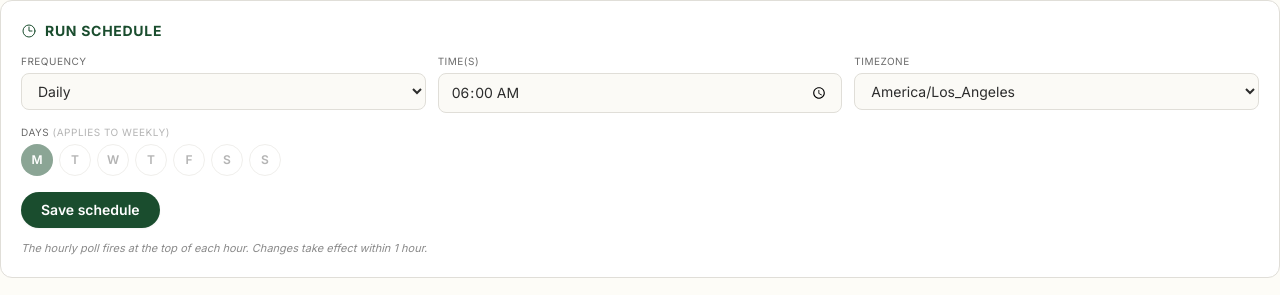
Test: ScheduleEditor › renders an error if save fails
The width and height of the screenshot is (1280, 295).
Expected: the time field showing "06:00" is shown, [438,73,842,113]
Click the button "Save schedule": (90, 210) [21,192,160,228]
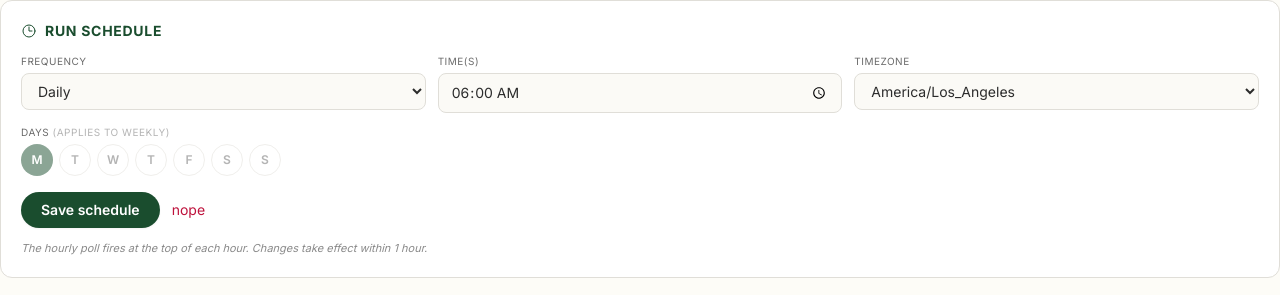
Expected: the text "nope" is shown, [172,200,205,220]
